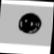correct: (17, 8, 46, 38)
